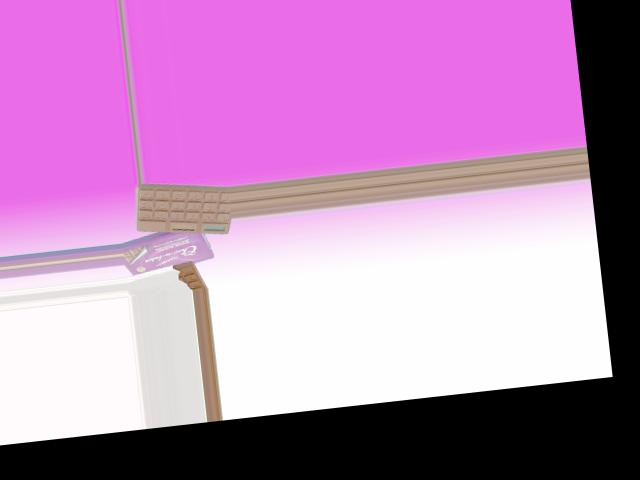chocolate: (132, 173, 229, 245)
